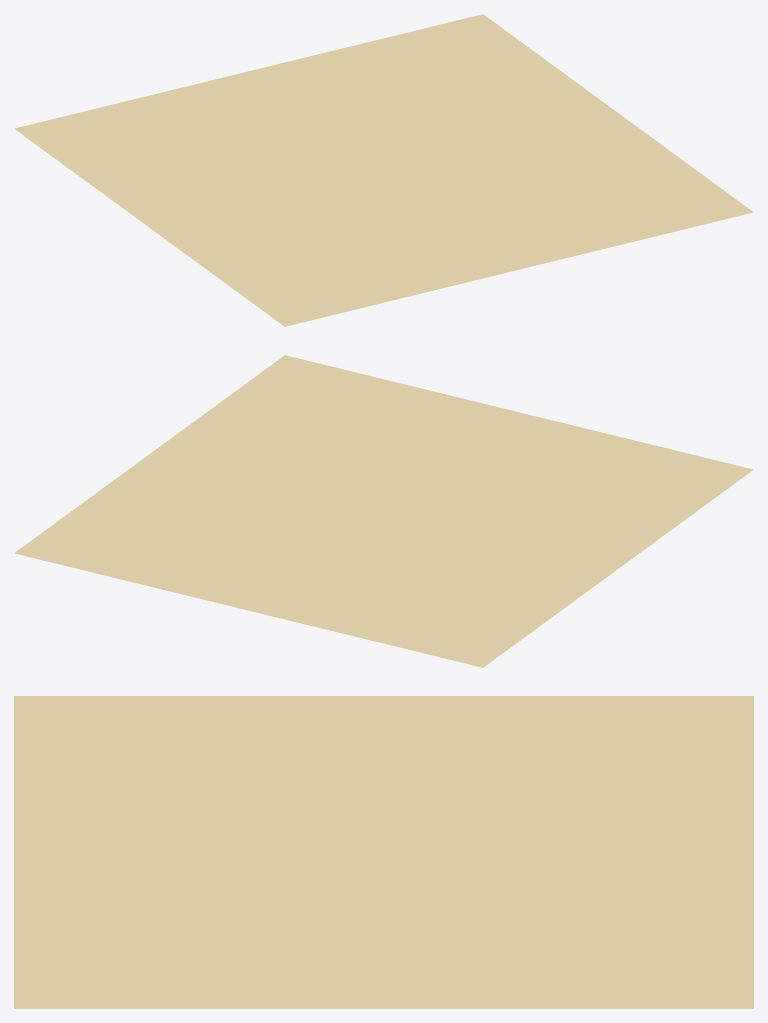
Rendered from Floor #1134030.fbx.
3 renders of one model, top to bottom at view 1: azimuth 30°, elevation 25°; view 2: azimuth 150°, elevation 25°; view 3: azimuth 270°, elevation 25°, orthographic. The views are drawn at different scales.
Visible parts, largest first — view 1: Floor; view 2: Floor; view 3: Floor.
Boxes of the visible parts, box(x1,y1,x2,y2) form: Floor: box(14, 14, 753, 326); Floor: box(14, 355, 753, 667); Floor: box(14, 696, 753, 1008).
Bounding box in the file's own units: 2200 × 9.54e-05 × 2200.
